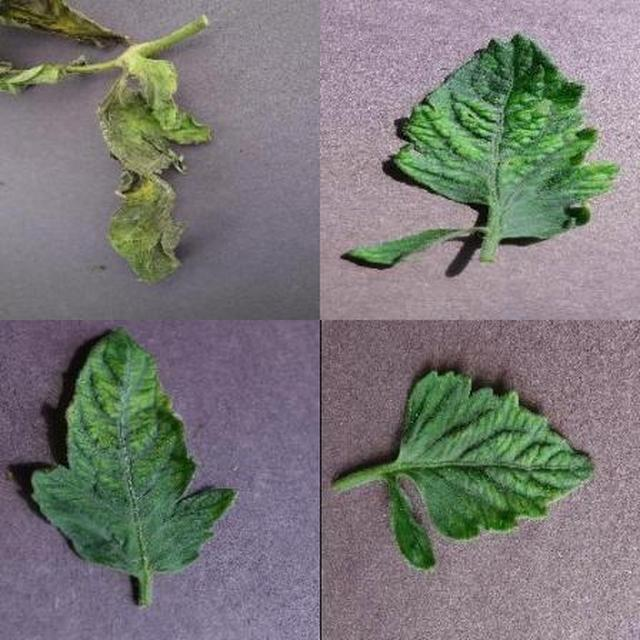Late Blight Leaf: (92, 34, 640, 640)
